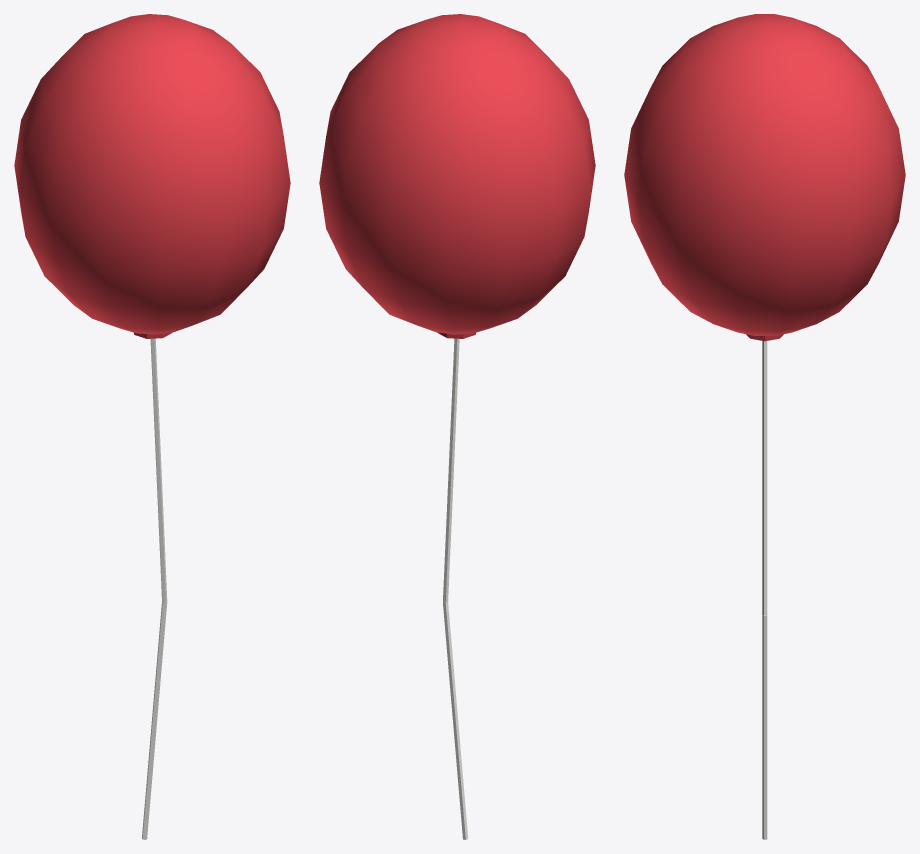
File: balloon_red.gltf
The picture shows the model from 3 angles, left to right: view 1: azimuth 30°, elevation 25°; view 2: azimuth 150°, elevation 25°; view 3: azimuth 270°, elevation 25°; orthographic projection.
Visible parts, largest first — view 1: balloon_red; view 2: balloon_red; view 3: balloon_red.
Part boxes in pixels (x1,y1,x2,y2): balloon_red: [14, 14, 290, 839]; balloon_red: [319, 14, 595, 839]; balloon_red: [624, 14, 905, 839].
Size of the model in its own units: 0.585 by 1.92 by 0.6.
